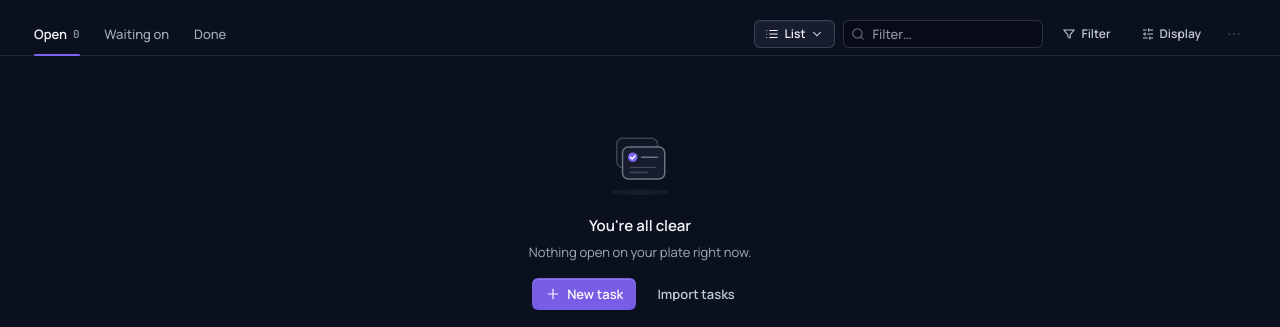
Test: My tasks tabs › empty tabs say so in plain words
This screenshot has width=1280, height=327.
Expected: the text "You're all clear" is shown, [589, 214, 691, 238]
Expected: the button "Import tasks" is shown, [644, 278, 748, 310]
Click the tab "Waiting on" at [137, 34], box [102, 12, 172, 56]
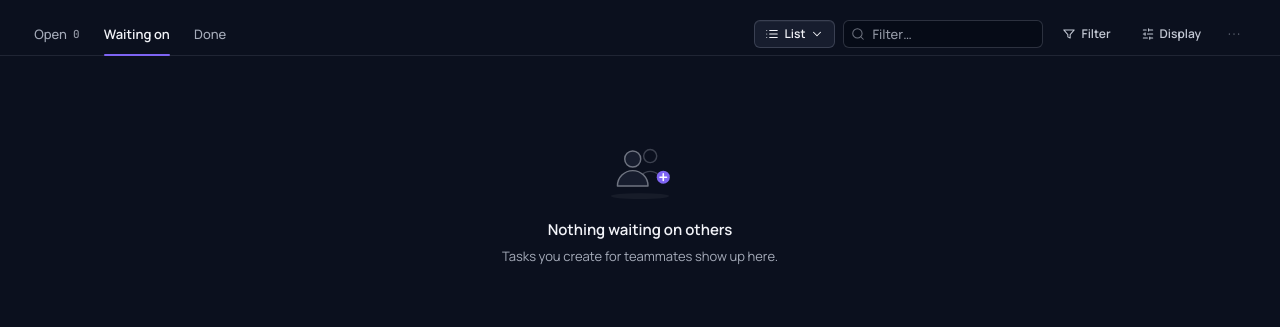
Result: the text "Nothing waiting on others" is shown at [548, 218, 732, 242]
Click the tab "Done" at [210, 34], box [192, 12, 228, 56]
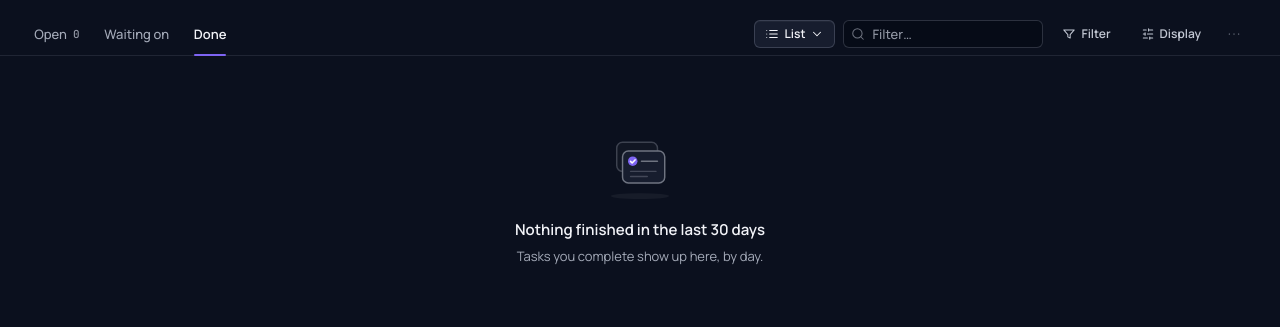
Result: the text "Nothing finished in the last 30 days" is shown at [515, 218, 765, 242]
